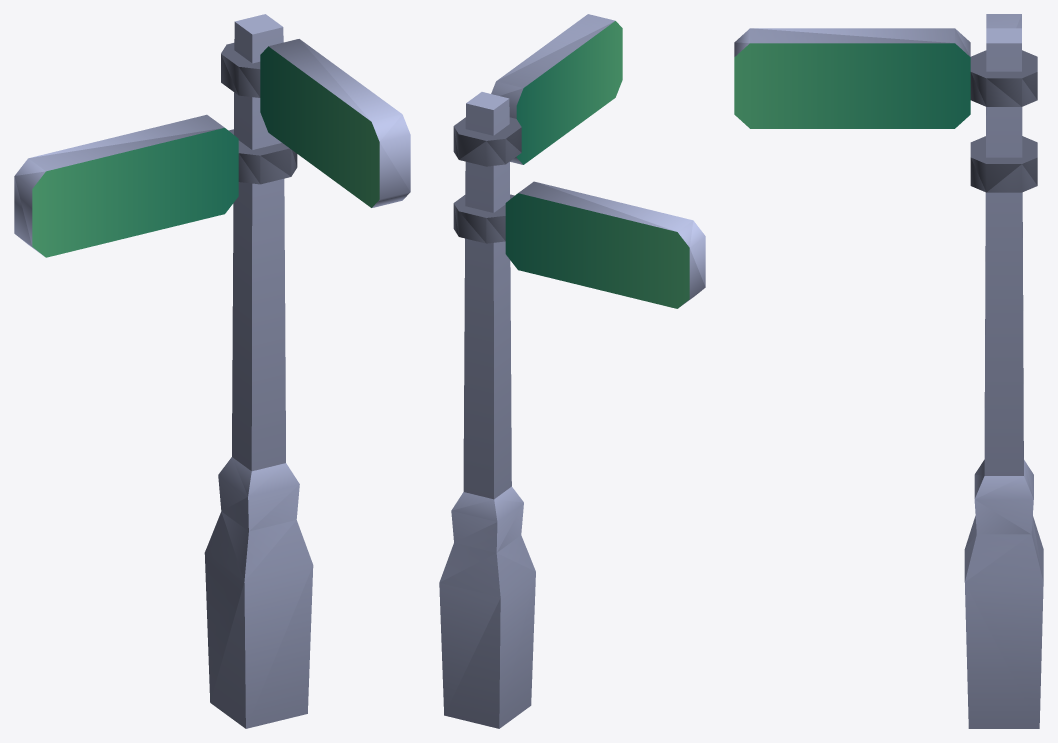
Rendered from kr_road_sign_street.fbx.
The picture shows the model from 3 angles, left to right: view 1: azimuth 30°, elevation 25°; view 2: azimuth 150°, elevation 25°; view 3: azimuth 270°, elevation 25°; orthographic projection. The views are drawn at different scales.
Parts seen in each view (by area): view 1: kr_road_sign_street; view 2: kr_road_sign_street; view 3: kr_road_sign_street.
Part boxes in pixels (x1,y1,x2,y2): kr_road_sign_street: (14, 14, 410, 728); kr_road_sign_street: (439, 14, 705, 728); kr_road_sign_street: (734, 14, 1043, 728).
Bounding box in the file's own units: 1.67 × 4.04 × 1.67.
